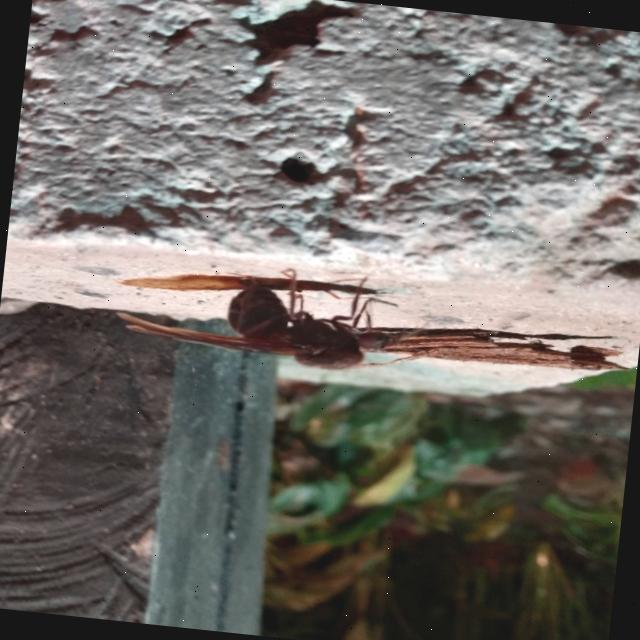Alive-Female-Alate: (112, 248, 434, 380)
